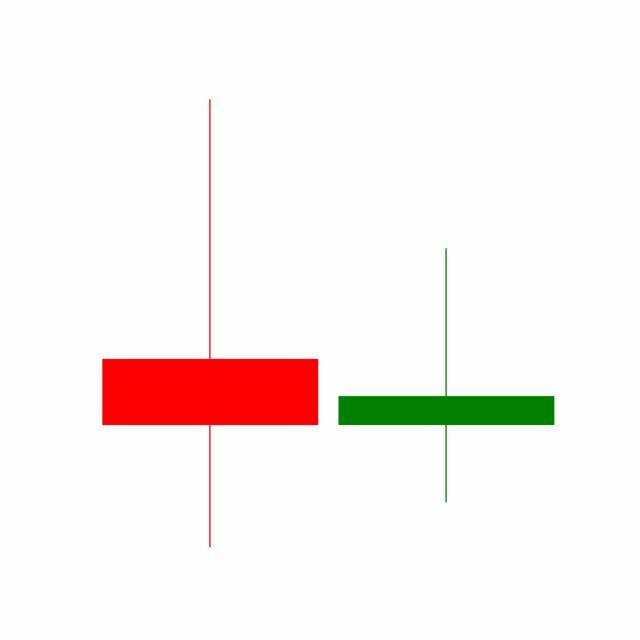Spinning Top: (328, 245, 566, 506)
